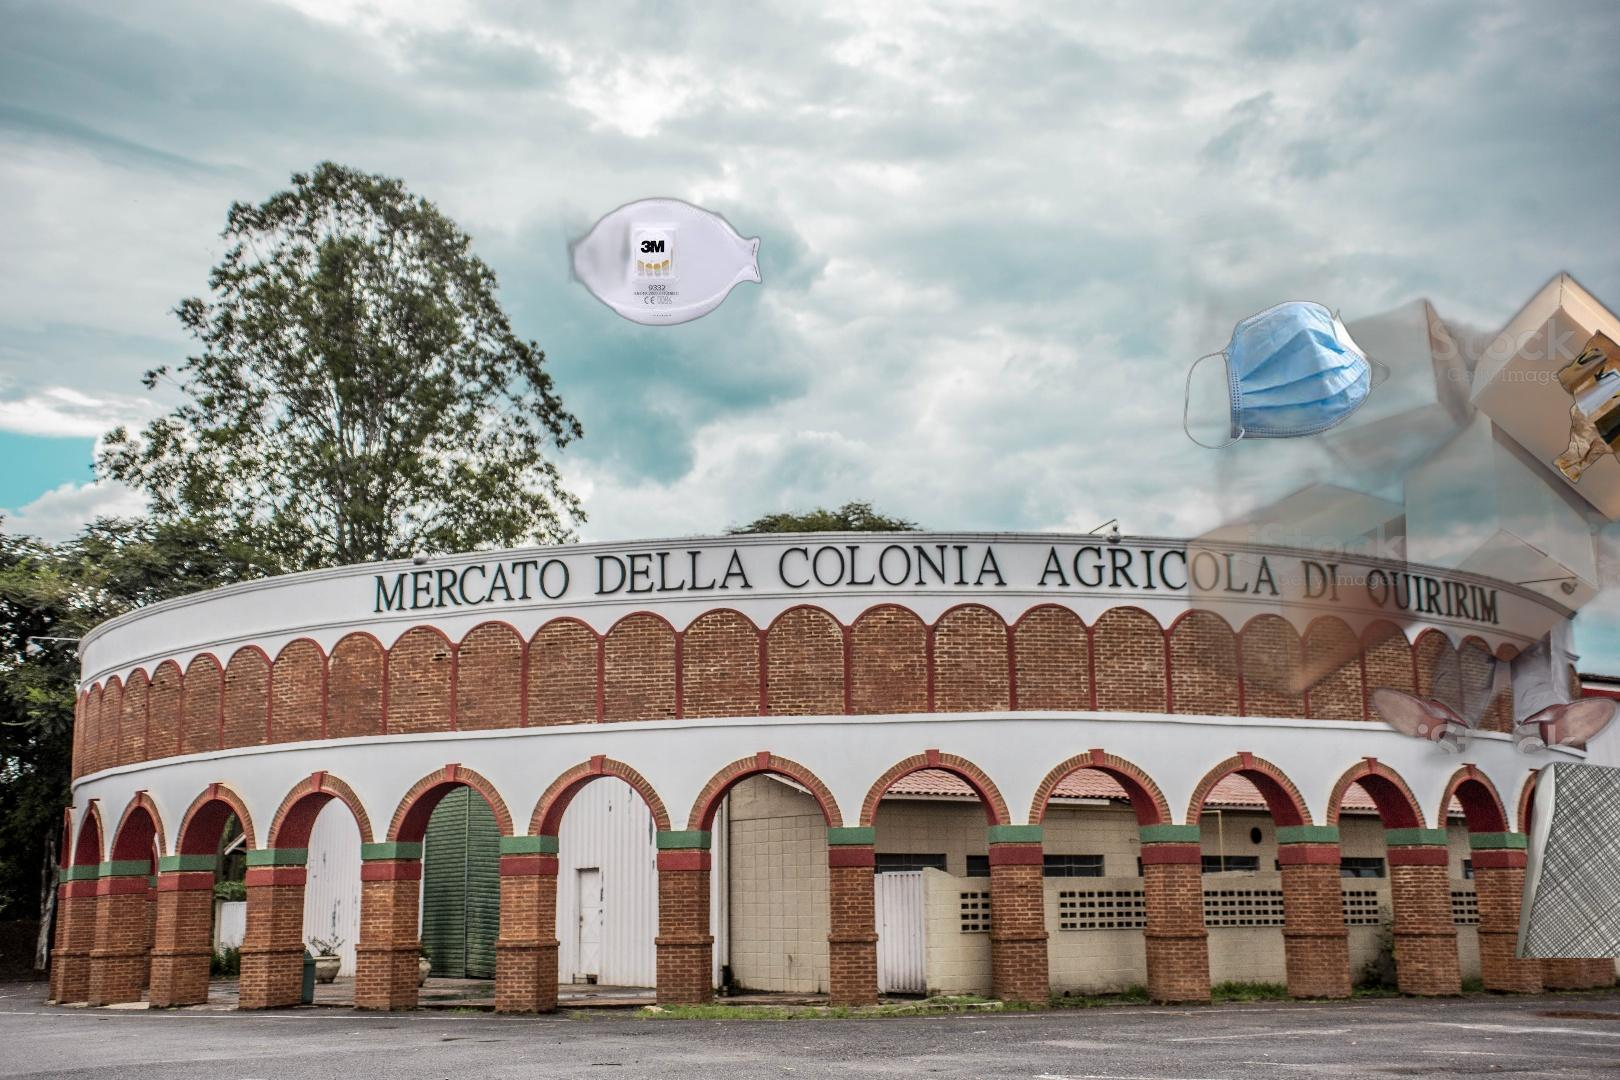paper: (1510, 761, 1620, 958)
paper-bag: (1550, 327, 1620, 517)
trash: (560, 116, 764, 363), (1181, 298, 1393, 452)
trashbox-cardboard: (985, 40, 1620, 810)
